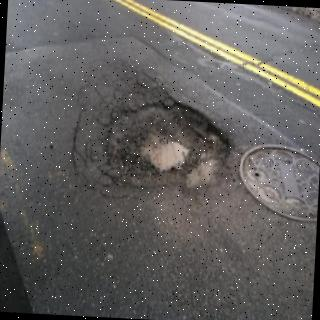pothole: (105, 103, 232, 200)
